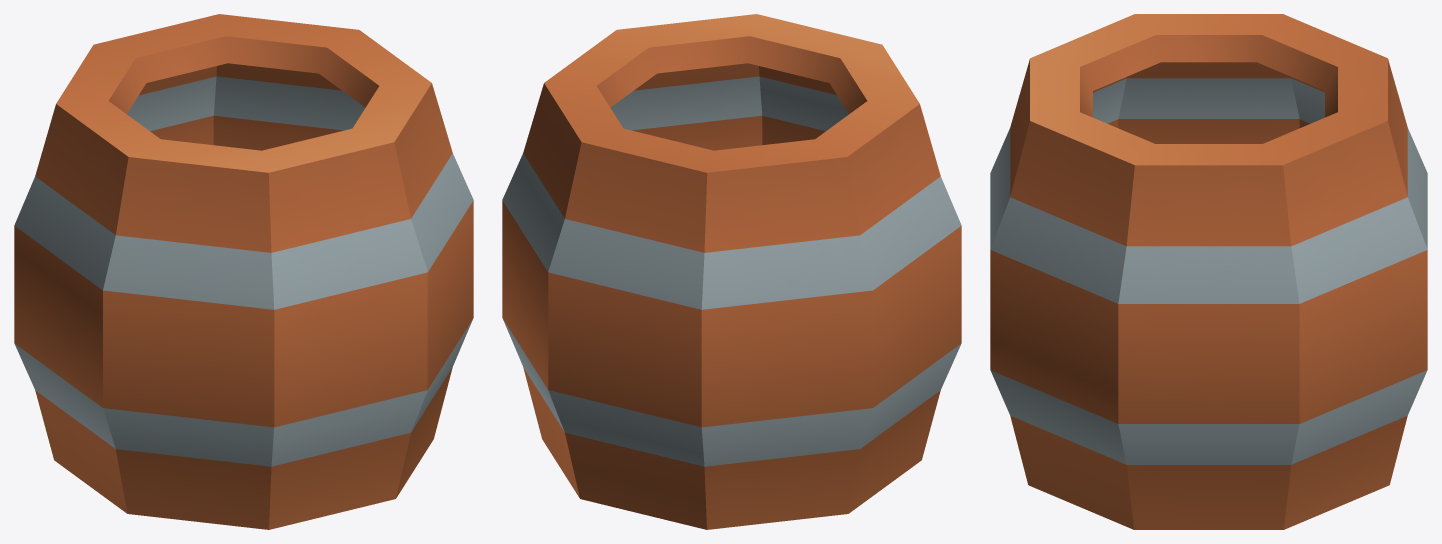
File: barrel.glb
3 views of the same model, side by side, from view 1: azimuth 30°, elevation 25°; view 2: azimuth 150°, elevation 25°; view 3: azimuth 270°, elevation 25° (orthographic). The views are drawn at different scales.
Visible parts, largest first — view 1: barrel; view 2: barrel; view 3: barrel.
Boxes of the visible parts, x1=… form: barrel: x1=14, y1=14, x2=473, y2=529; barrel: x1=502, y1=14, x2=961, y2=529; barrel: x1=990, y1=14, x2=1427, y2=529.
Bounding box in the file's own units: 0.4358 × 0.4002 × 0.4358.
1 material, 1 textured.
